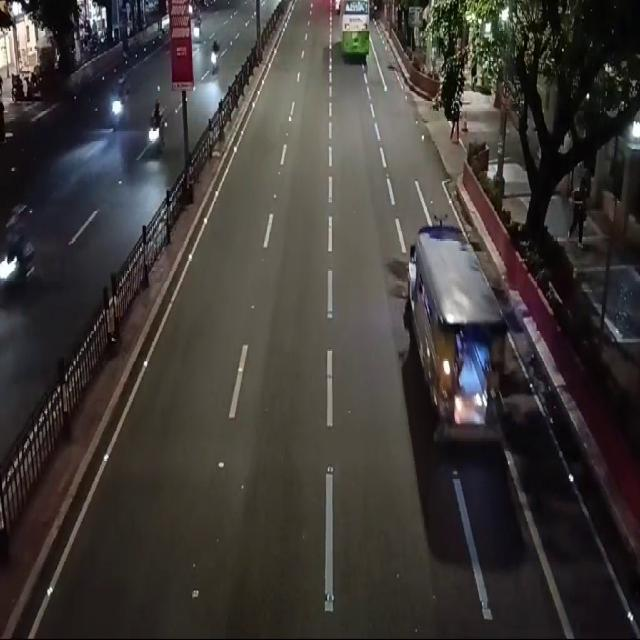bus: (339, 2, 373, 67)
jeepney: (404, 220, 510, 442)
motorcycle: (147, 95, 168, 161), (209, 40, 224, 82)
